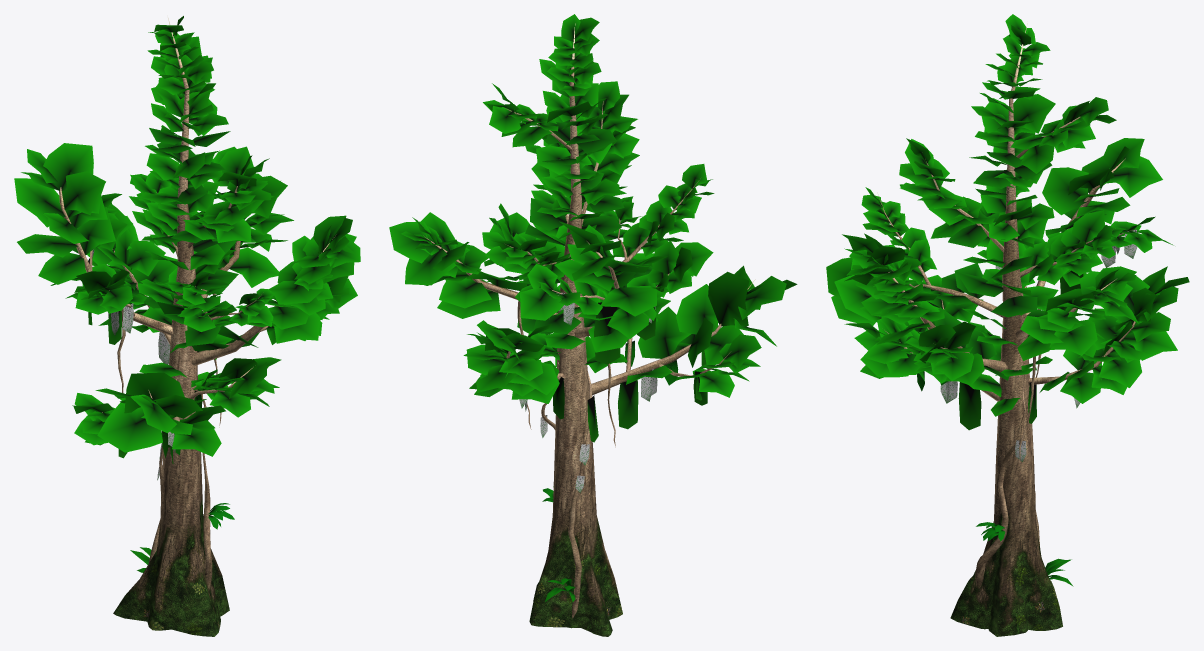
The model's file is Koompassia_Lrg_A.FBX.
3 views of the same model, side by side, from view 1: azimuth 30°, elevation 25°; view 2: azimuth 150°, elevation 25°; view 3: azimuth 270°, elevation 25° (orthographic).
Parts seen in each view (by area): view 1: Koompassia_Lrg_A; view 2: Koompassia_Lrg_A; view 3: Koompassia_Lrg_A.
Boxes of the visible parts, x1,y1,x2,y2 form: Koompassia_Lrg_A: (14,16,360,636); Koompassia_Lrg_A: (389,14,797,636); Koompassia_Lrg_A: (826,14,1189,636).
Size of the model in its own units: 1069 by 2132 by 1184.
